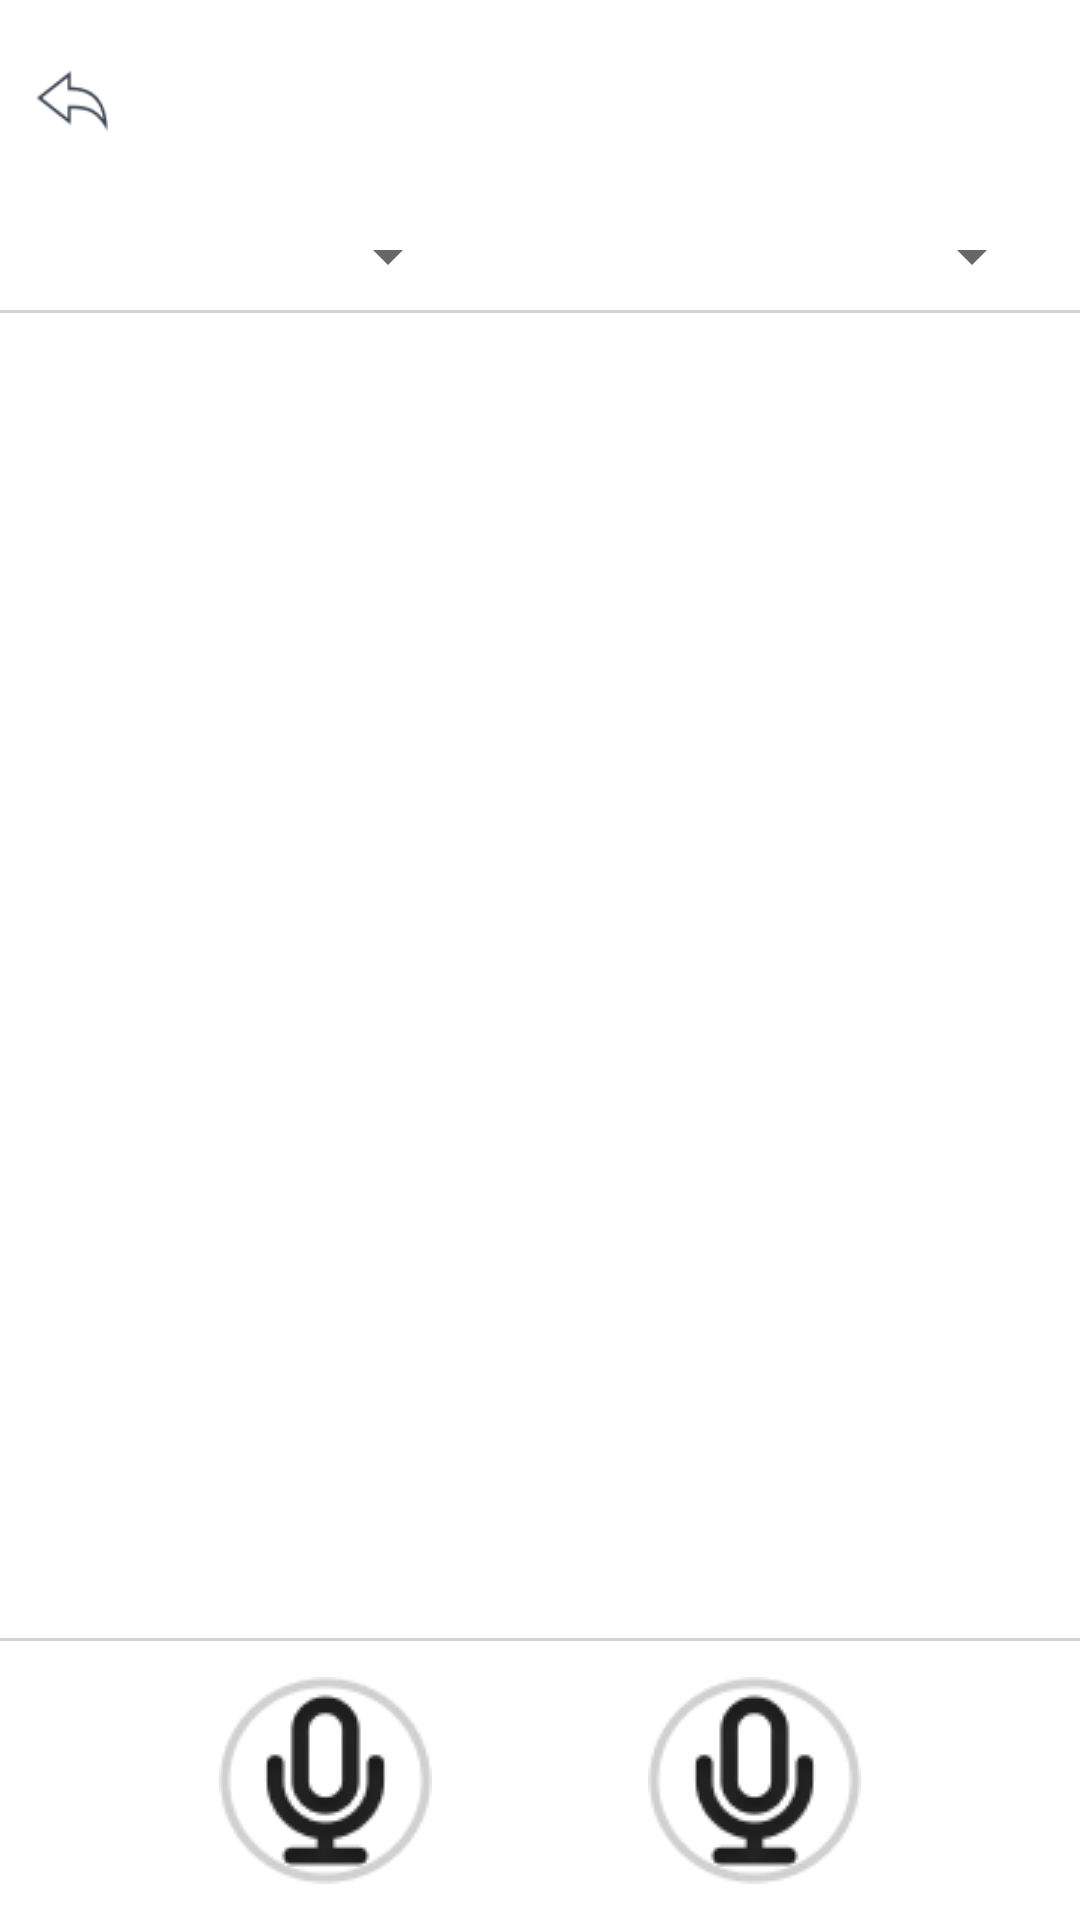

Where to tap for icons on this 1080×1920 app screen, as (x=x, y=y):
speechmic: (x=325, y=1780), (x=754, y=1780)
